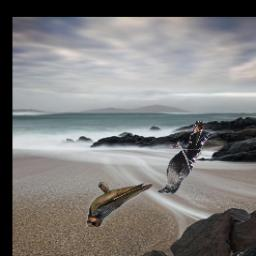Crow: (157, 121, 210, 194)
Swallow: (86, 182, 152, 227)
